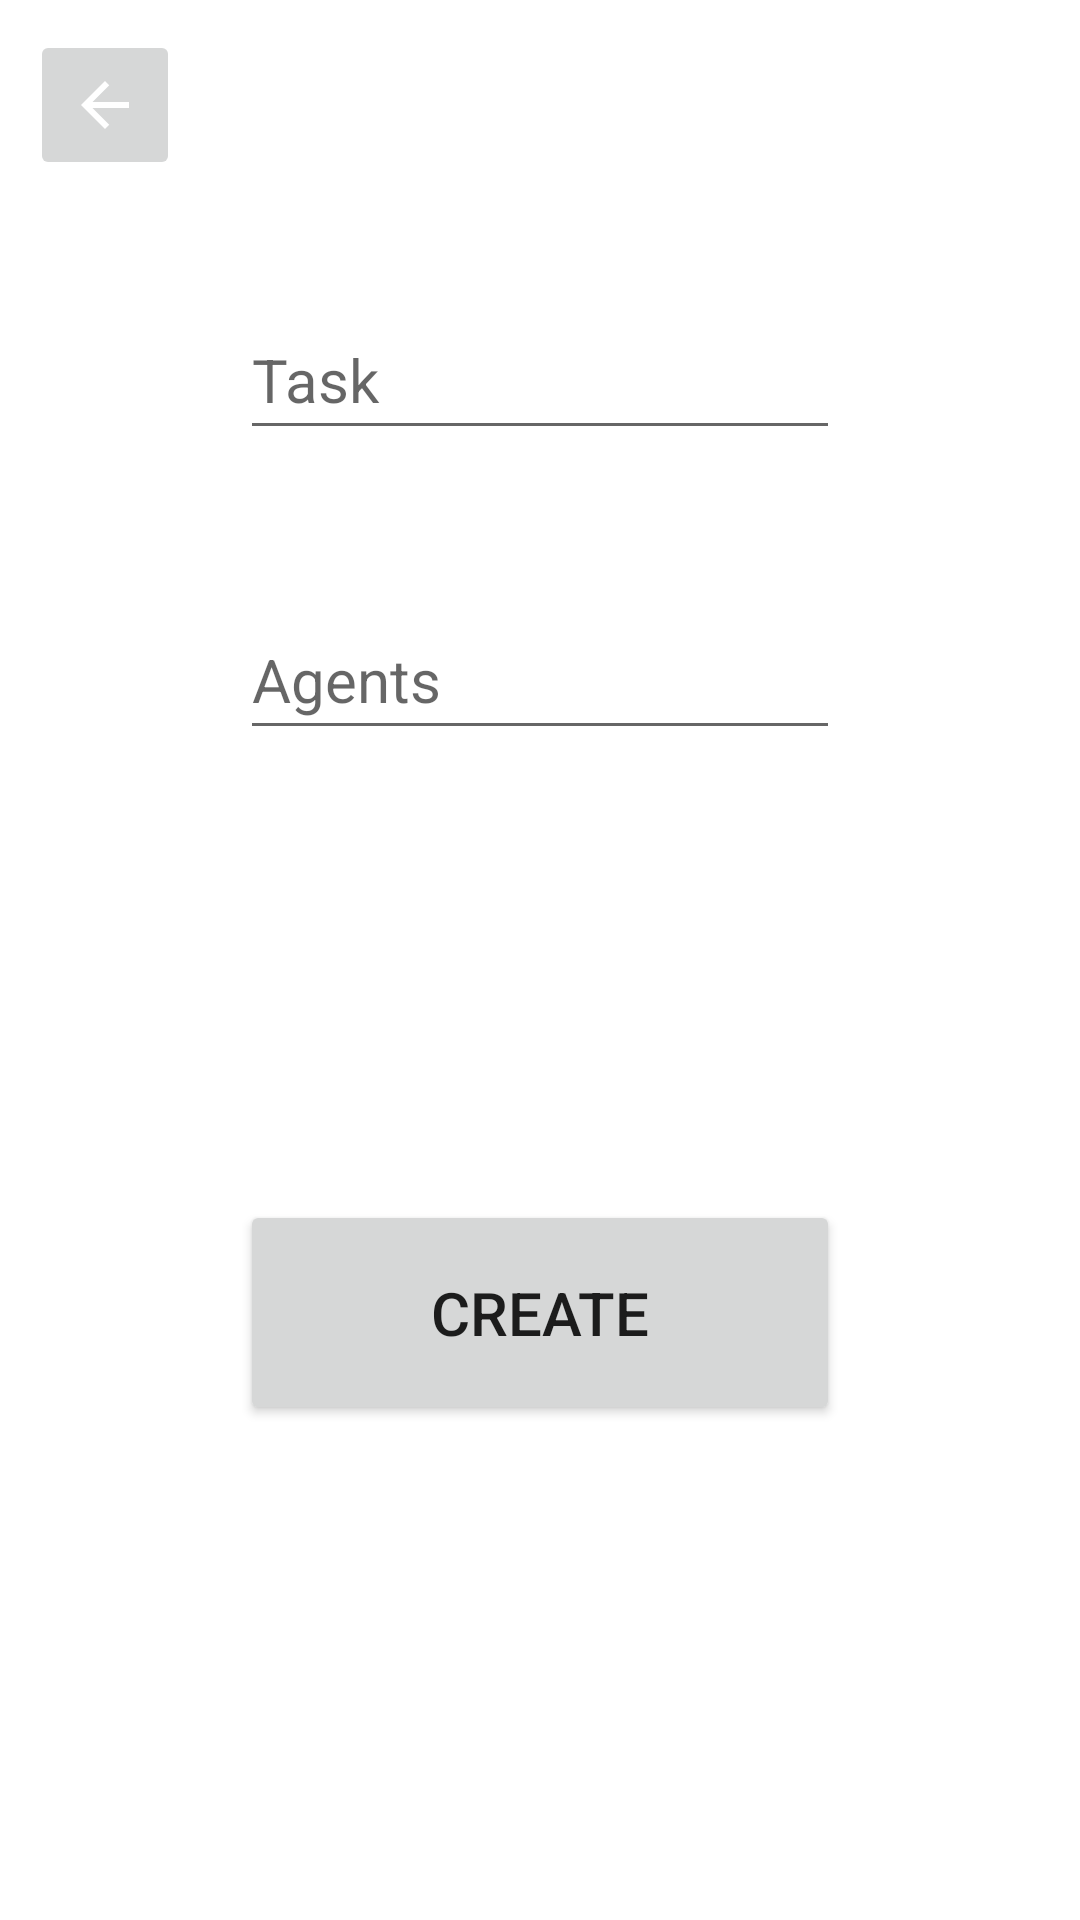

Where to tap for icons on this 1080w x 1920h app screen, as (x=x, y=y):
back button: (x=105, y=105)
